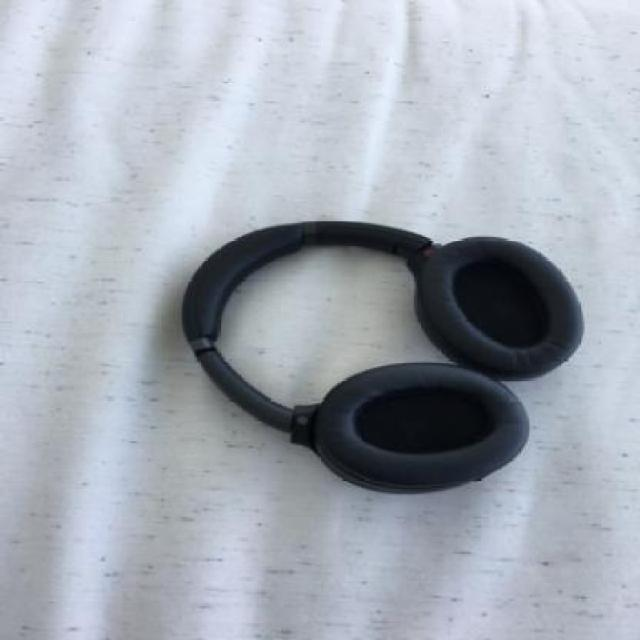earphone: (145, 165, 597, 530)
